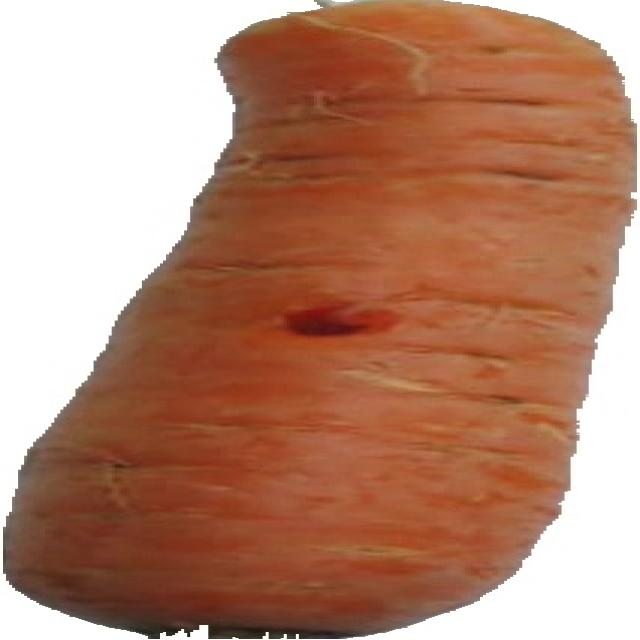carrot: (8, 0, 633, 638)
